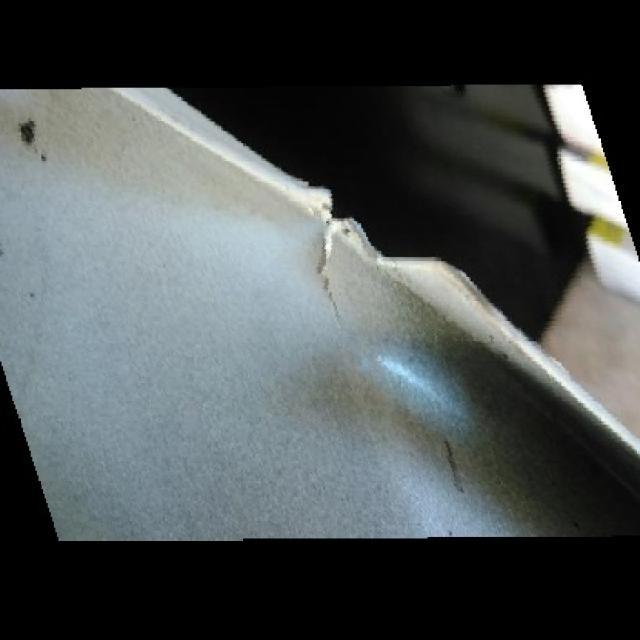crack: (318, 224, 338, 318)
